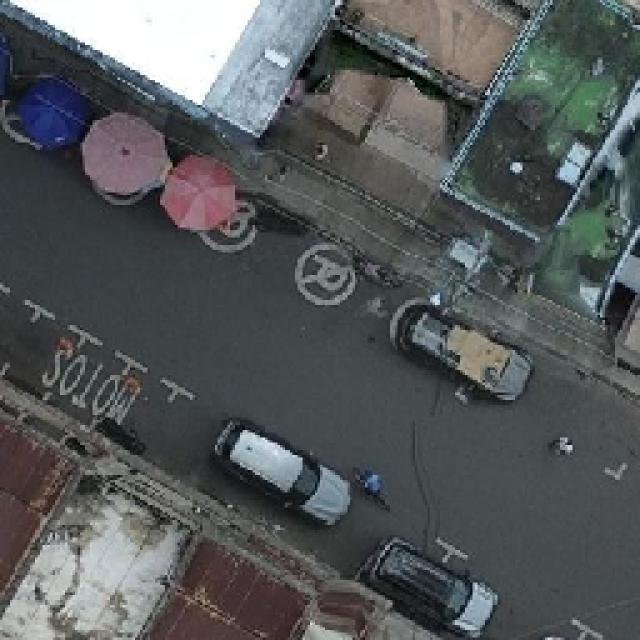vendedor_ambulante: (78, 105, 173, 198), (163, 151, 238, 231), (11, 79, 96, 149)
